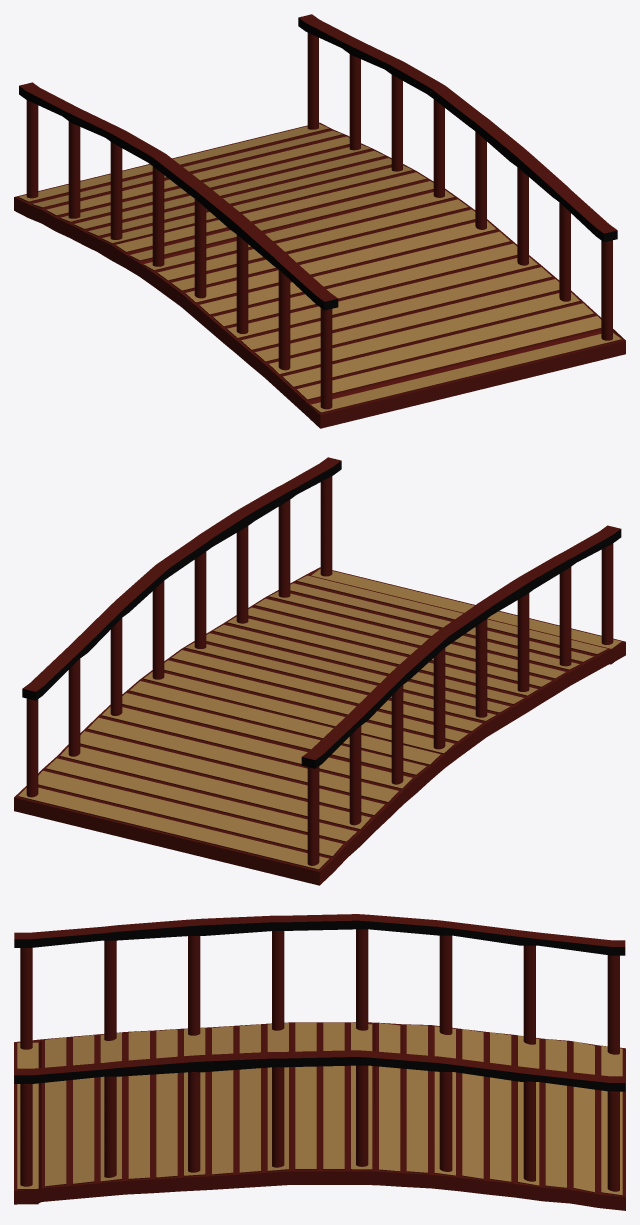
Rendered from Small_Bridge.FBX.
The picture shows the model from 3 angles, top to bottom: view 1: azimuth 30°, elevation 25°; view 2: azimuth 150°, elevation 25°; view 3: azimuth 270°, elevation 25°; orthographic projection.
Parts seen in each view (by area): view 1: SmallBridge; view 2: SmallBridge; view 3: SmallBridge.
Part boxes in pixels (x1,y1,x2,y2): SmallBridge: (14, 14, 625, 428); SmallBridge: (14, 457, 625, 885); SmallBridge: (14, 914, 625, 1210).
Bounding box in the file's own units: 489 × 231 × 848.
